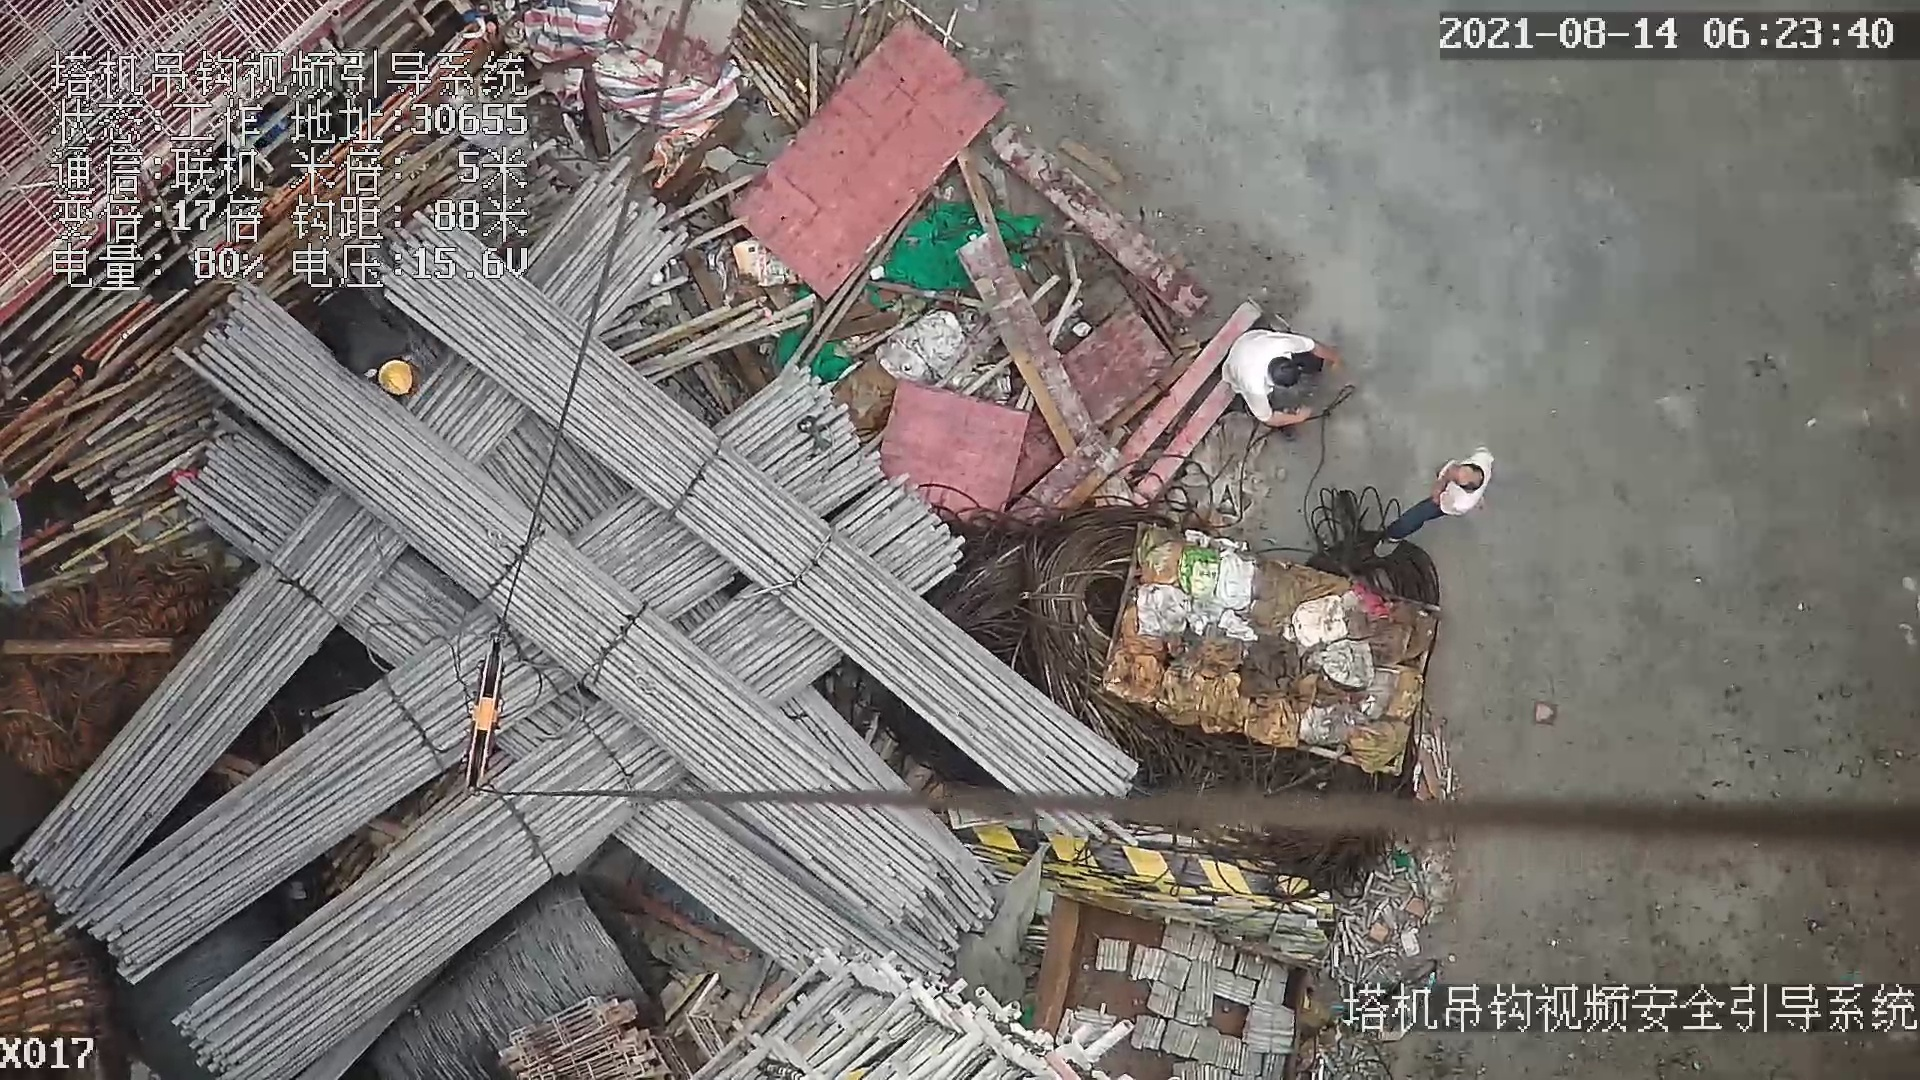helmet: (375, 360, 412, 394)
hook: (469, 633, 512, 800)
person: (1379, 428, 1495, 562), (1223, 330, 1345, 432), (312, 280, 417, 395)
rebar: (167, 287, 948, 927), (383, 279, 1135, 843), (176, 691, 682, 1080), (75, 615, 578, 977), (15, 481, 409, 908)
wood: (1, 861, 117, 1031)
